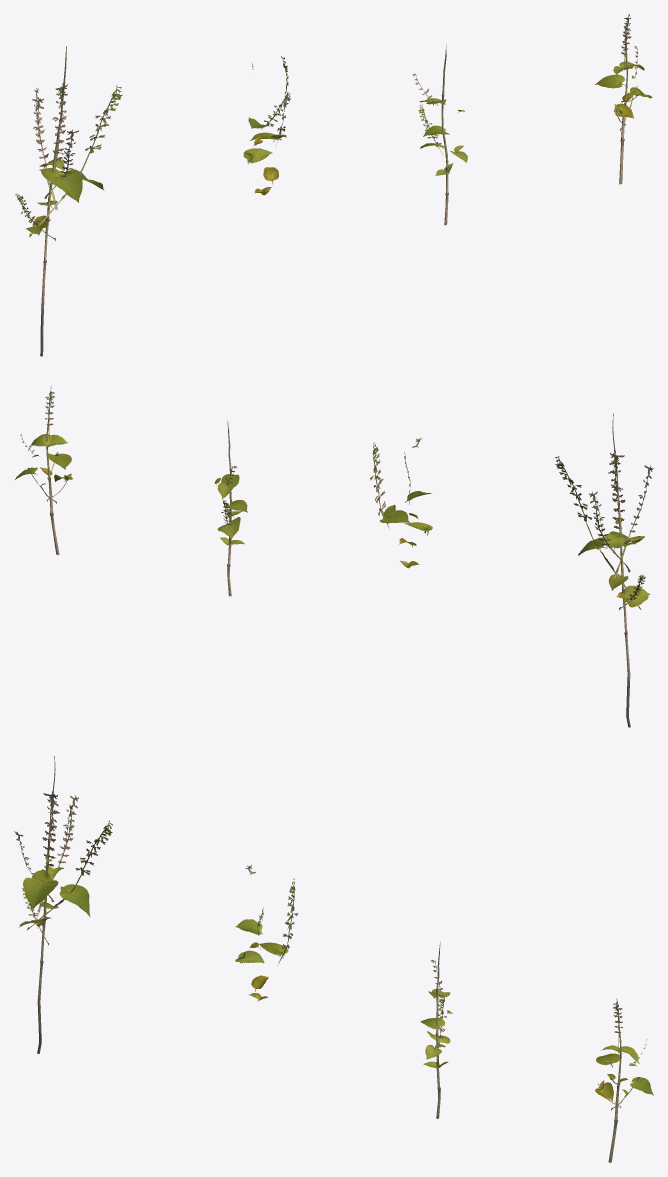
The model's file is shrub_03.glb.
3 renders of one model, top to bottom at view 1: azimuth 30°, elevation 25°; view 2: azimuth 150°, elevation 25°; view 3: azimuth 330°, elevation 25°, orthographic.
Parts seen in each view (by area): view 1: shrub_03_a, shrub_03_d, shrub_03_c, shrub_03_b; view 2: shrub_03_a, shrub_03_d, shrub_03_c, shrub_03_b; view 3: shrub_03_a, shrub_03_d, shrub_03_b, shrub_03_c.
Part boxes in pixels (x1,y1,x2,y2): shrub_03_a: (15, 46, 122, 356); shrub_03_d: (595, 14, 652, 184); shrub_03_c: (412, 44, 467, 225); shrub_03_b: (243, 56, 290, 195); shrub_03_a: (555, 413, 653, 727); shrub_03_d: (15, 386, 72, 554); shrub_03_c: (214, 420, 247, 596); shrub_03_b: (370, 437, 432, 568); shrub_03_a: (14, 756, 112, 1053); shrub_03_d: (595, 998, 653, 1162); shrub_03_b: (235, 864, 298, 1001); shrub_03_c: (420, 941, 452, 1118).
Size of the model in its own units: 1.36 by 0.6274 by 0.1795.
Materials: 1 (1 with a texture image).
